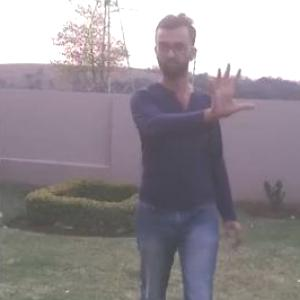follow_hand: (203, 59, 257, 117)
